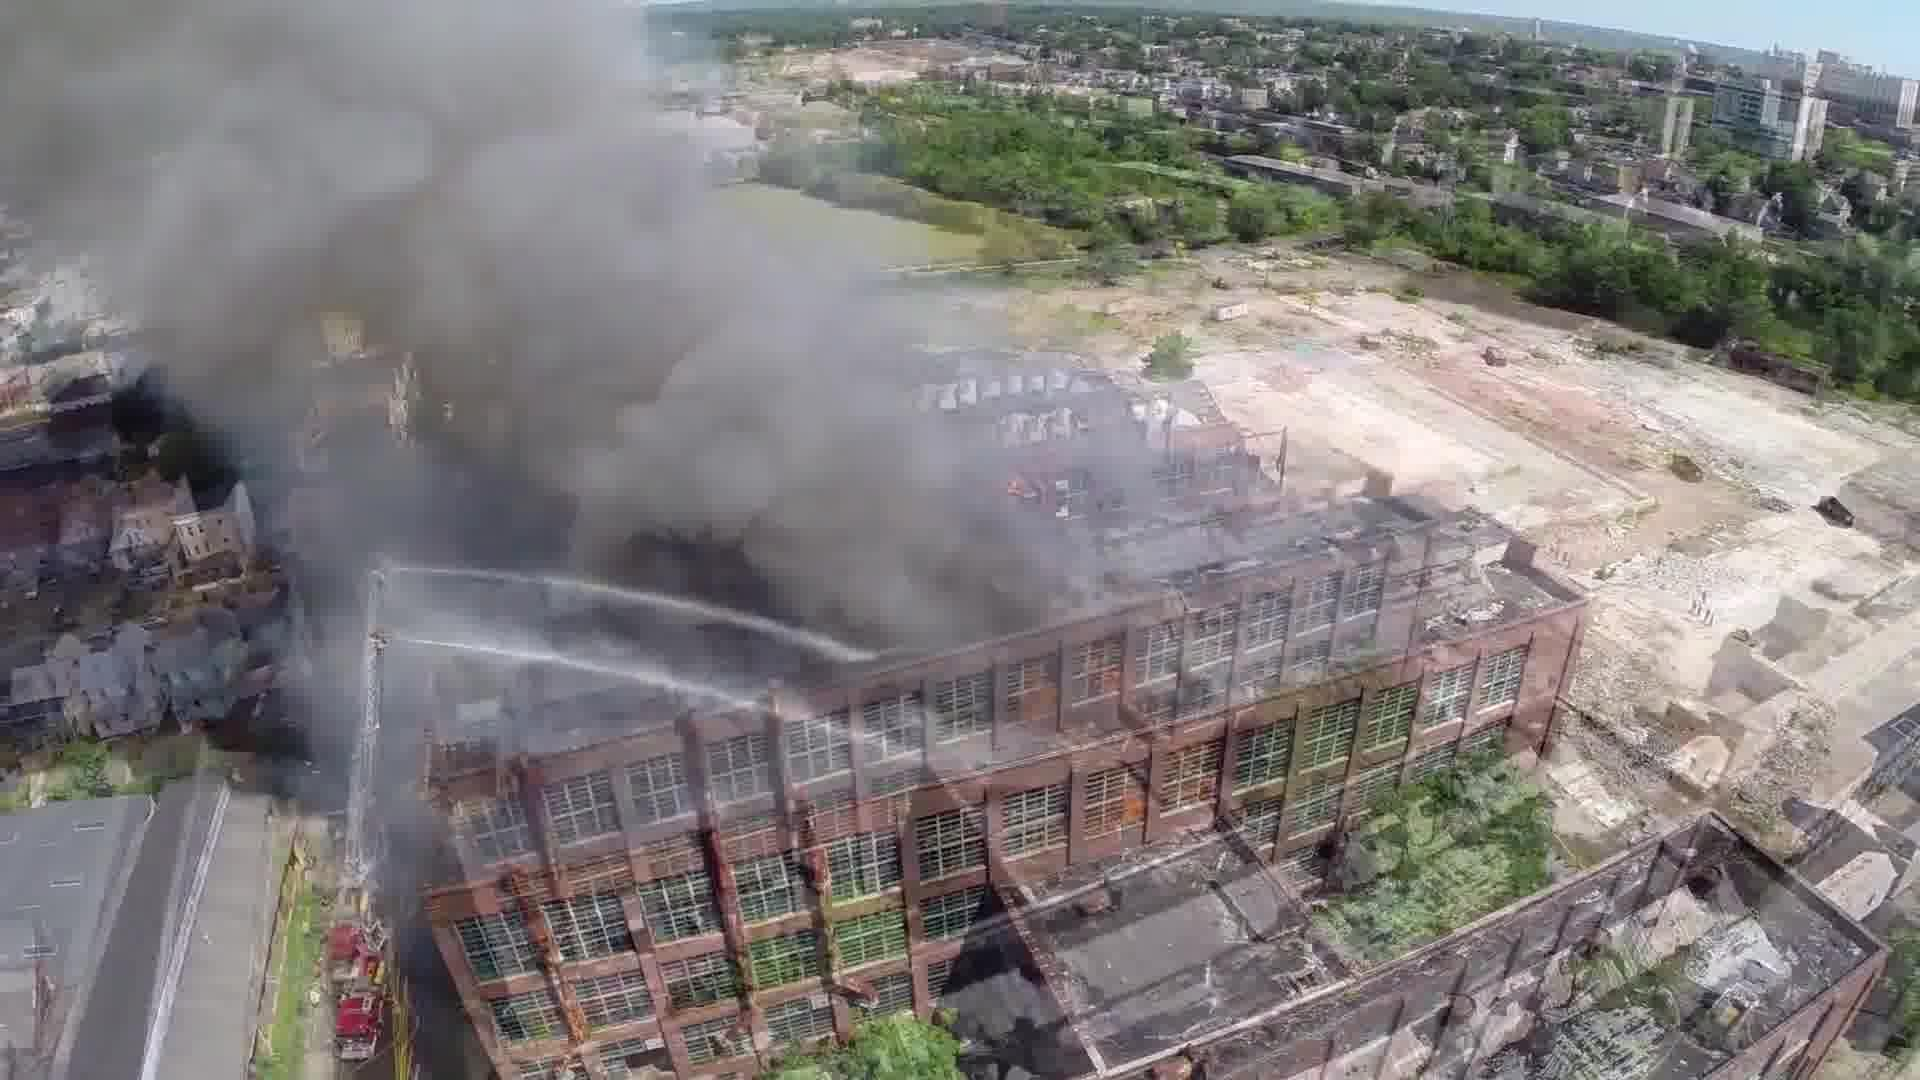smoke: (0, 0, 680, 386), (682, 239, 1164, 665), (195, 390, 678, 605), (290, 607, 448, 936)
